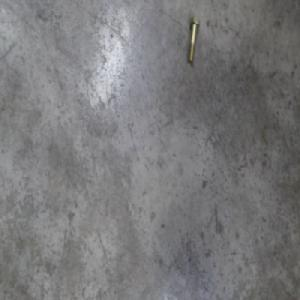Bolt: (187, 16, 201, 63)
